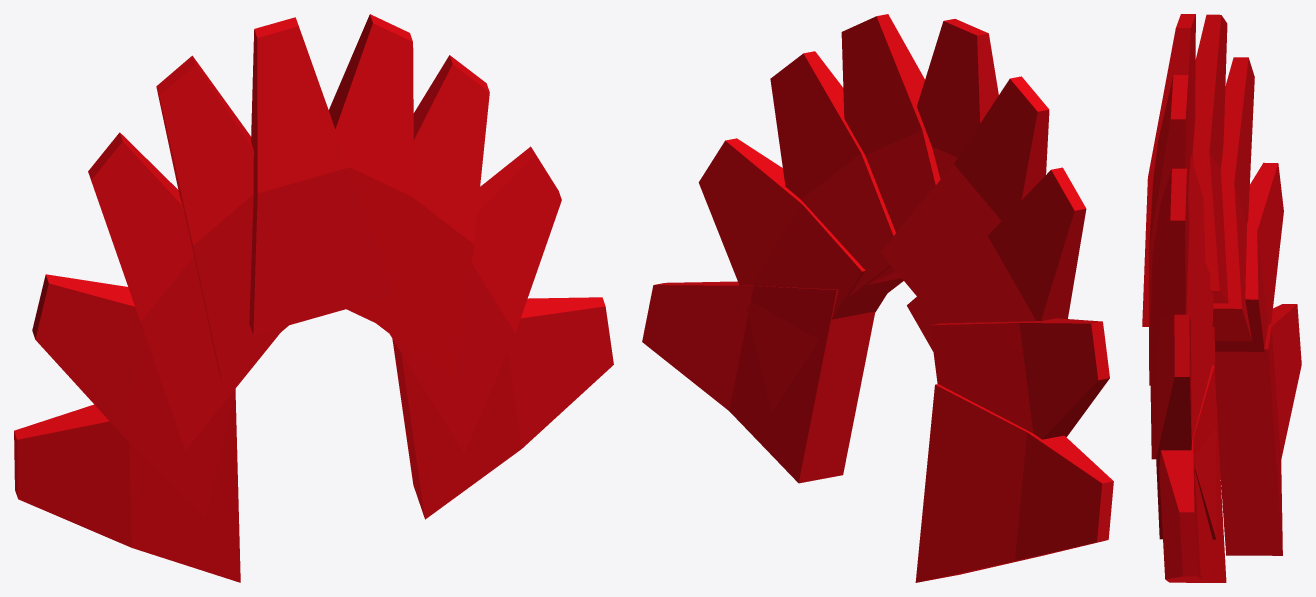
Rendered from Mia_statue_stand1_hairMesh.fbx.
3 renders of one model, left to right at view 1: azimuth 30°, elevation 25°; view 2: azimuth 150°, elevation 25°; view 3: azimuth 270°, elevation 25°, orthographic. The views are drawn at different scales.
Visible parts, largest first — view 1: Mia_statue_stand1_hairMesh; view 2: Mia_statue_stand1_hairMesh; view 3: Mia_statue_stand1_hairMesh.
Boxes of the visible parts, <box> form: Mia_statue_stand1_hairMesh: <box>14,14,613,582</box>; Mia_statue_stand1_hairMesh: <box>642,14,1113,582</box>; Mia_statue_stand1_hairMesh: <box>1142,14,1301,582</box>.
Size of the model in its own units: 35.15 by 34.87 by 9.27.
